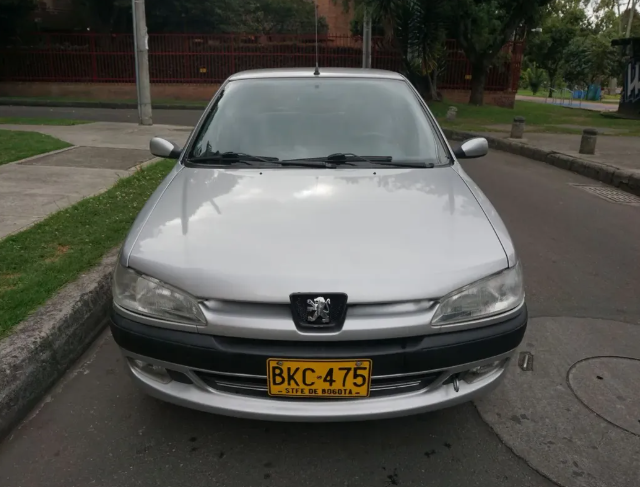placa: (265, 355, 372, 403)
